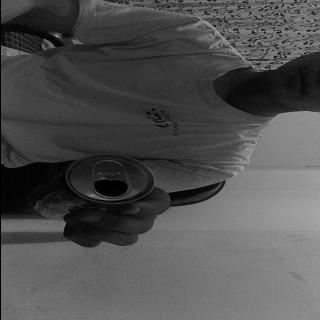alumunium_can: (20, 154, 156, 223)
